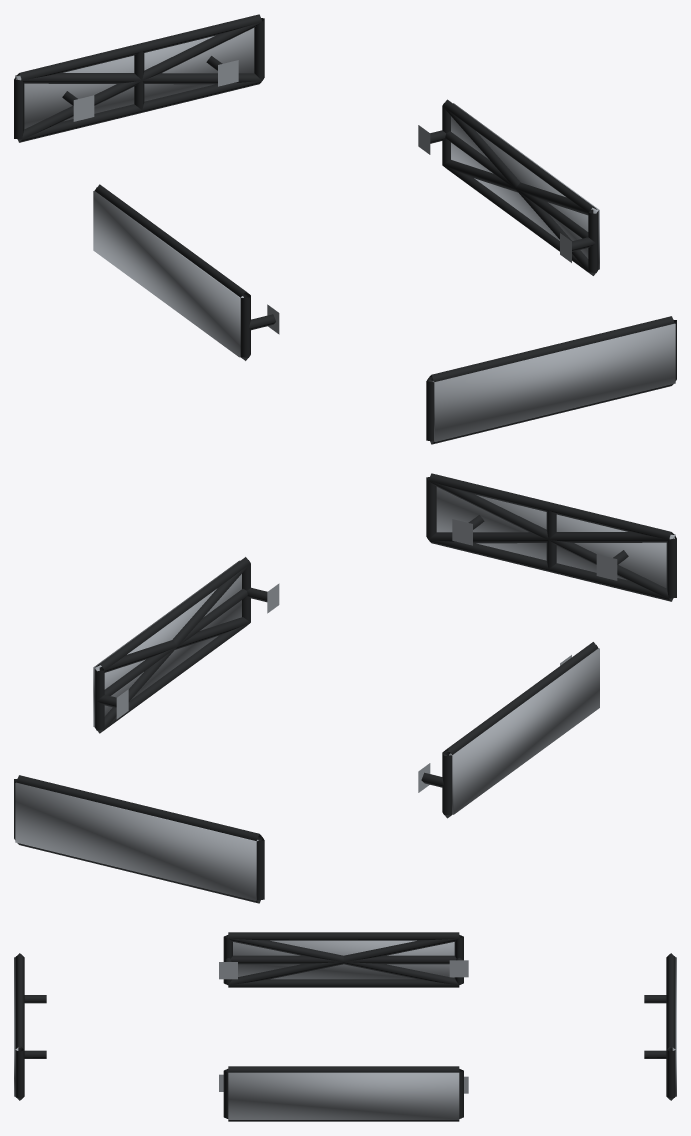
Rendered from ottavo_tocoalto_protecao.glb.
3 views of the same model, one above another, from view 1: azimuth 30°, elevation 25°; view 2: azimuth 150°, elevation 25°; view 3: azimuth 270°, elevation 25° (orthographic). The views are drawn at different scales.
Parts seen in each view (by area): view 1: Protection_front_Level3_Details, Protection_left_Level3_Details, Protection_rear_Level1_Details, Protection_rear_Level3_Details, Protection_right_Level1_Details, Protection_rear_Level2_Details, Protection_right_Level2_Details, Protection_right_Level3_Details, Protection_front_Level1_Details, Protection_left_Level1_Details; view 2: Protection_rear_Level3_Details, Protection_left_Level3_Details, Protection_front_Level1_Details, Protection_front_Level3_Details, Protection_right_Level1_Details, Protection_front_Level2_Details, Protection_right_Level2_Details, Protection_right_Level3_Details, Protection_rear_Level1_Details, Protection_left_Level1_Details; view 3: Protection_right_Level3_Details, Protection_left_Level2_Details, Protection_left_Level1_Details, Protection_left_Level3_Details, Protection_right_Level1_Details, Protection_rear_Level1_Details, Protection_front_Level1_Details.
Part boxes in pixels (left/top/right/bottom): Protection_front_Level3_Details: left=432, top=323, right=675, bottom=441; Protection_left_Level3_Details: left=93, top=191, right=243, bottom=357; Protection_rear_Level1_Details: left=14, top=14, right=264, bottom=142; Protection_rear_Level3_Details: left=15, top=28, right=254, bottom=129; Protection_right_Level1_Details: left=418, top=99, right=598, bottom=275; Protection_rear_Level2_Details: left=16, top=22, right=261, bottom=141; Protection_right_Level2_Details: left=442, top=107, right=597, bottom=275; Protection_right_Level3_Details: left=451, top=103, right=599, bottom=269; Protection_front_Level1_Details: left=426, top=316, right=676, bottom=444; Protection_left_Level1_Details: left=94, top=184, right=279, bottom=360; Protection_rear_Level3_Details: left=15, top=782, right=258, bottom=900; Protection_left_Level3_Details: left=449, top=648, right=599, bottom=814; Protection_front_Level1_Details: left=426, top=473, right=676, bottom=601; Protection_front_Level3_Details: left=436, top=487, right=675, bottom=588; Protection_right_Level1_Details: left=94, top=557, right=279, bottom=733; Protection_front_Level2_Details: left=429, top=481, right=674, bottom=600; Protection_right_Level2_Details: left=95, top=563, right=250, bottom=732; Protection_right_Level3_Details: left=93, top=560, right=241, bottom=726; Protection_rear_Level1_Details: left=14, top=775, right=264, bottom=903; Protection_left_Level1_Details: left=418, top=642, right=598, bottom=818; Protection_right_Level3_Details: left=228, top=1072, right=459, bottom=1119; Protection_left_Level2_Details: left=228, top=936, right=459, bottom=985; Protection_left_Level1_Details: left=219, top=932, right=468, bottom=987; Protection_left_Level3_Details: left=233, top=940, right=454, bottom=979; Protection_right_Level1_Details: left=219, top=1066, right=468, bottom=1121; Protection_rear_Level1_Details: left=644, top=953, right=675, bottom=1100; Protection_front_Level1_Details: left=15, top=953, right=46, bottom=1100.
Size of the model in its own units: 1.91 by 0.354 by 3.85.
Materials: 1 (1 with a texture image).
